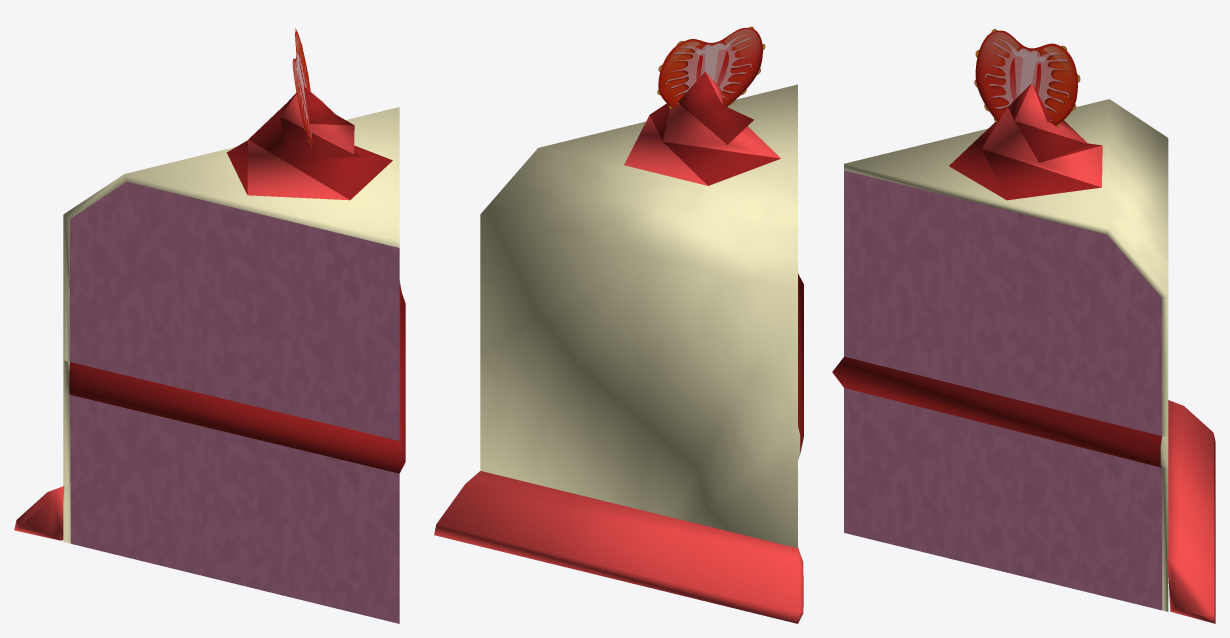
The model's file is Cake_Slice_A_3.FBX.
The picture shows the model from 3 angles, left to right: view 1: azimuth 30°, elevation 25°; view 2: azimuth 150°, elevation 25°; view 3: azimuth 270°, elevation 25°; orthographic projection. The views are drawn at different scales.
Visible parts, largest first — view 1: Cake_03; view 2: Cake_03; view 3: Cake_03.
Boxes of the visible parts, x1,y1,x2,y2 form: Cake_03: (14, 28, 405, 623); Cake_03: (434, 26, 803, 623); Cake_03: (832, 29, 1215, 623).
Size of the model in its own units: 58.57 by 76.29 by 52.35.
